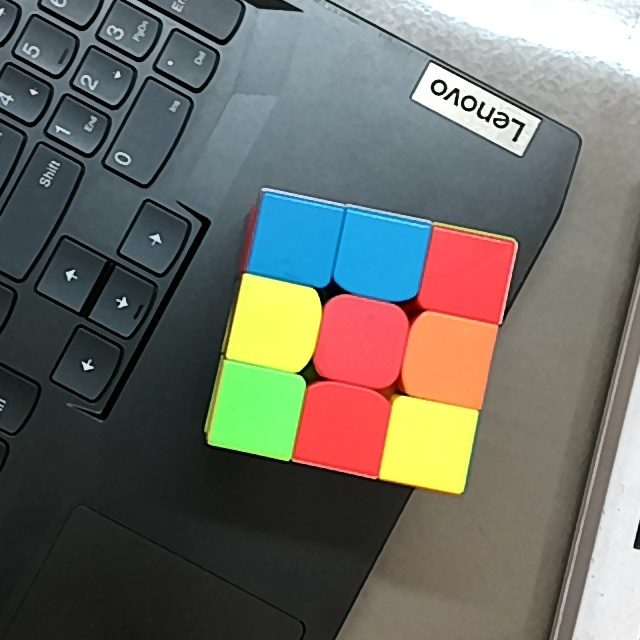tile: (309, 395, 377, 460), (222, 377, 292, 440), (328, 309, 395, 374), (348, 226, 416, 290), (417, 325, 482, 391), (436, 243, 501, 305), (243, 294, 307, 356), (267, 207, 329, 270), (399, 408, 459, 473)
